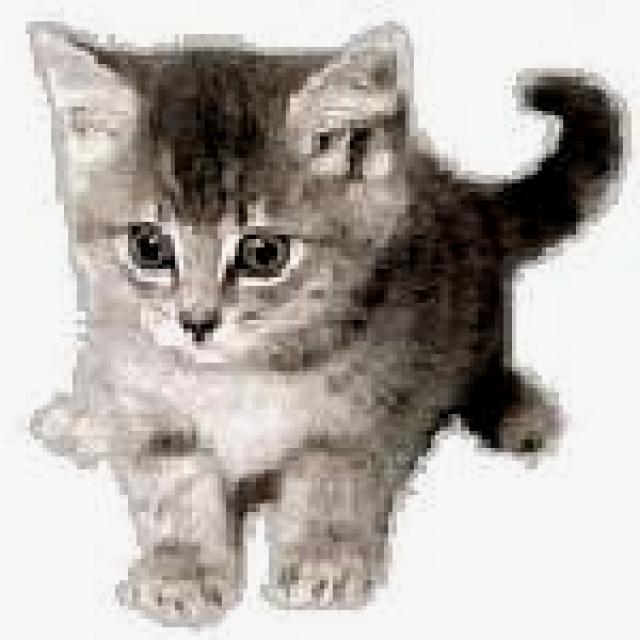KEDI: (40, 19, 627, 632)
